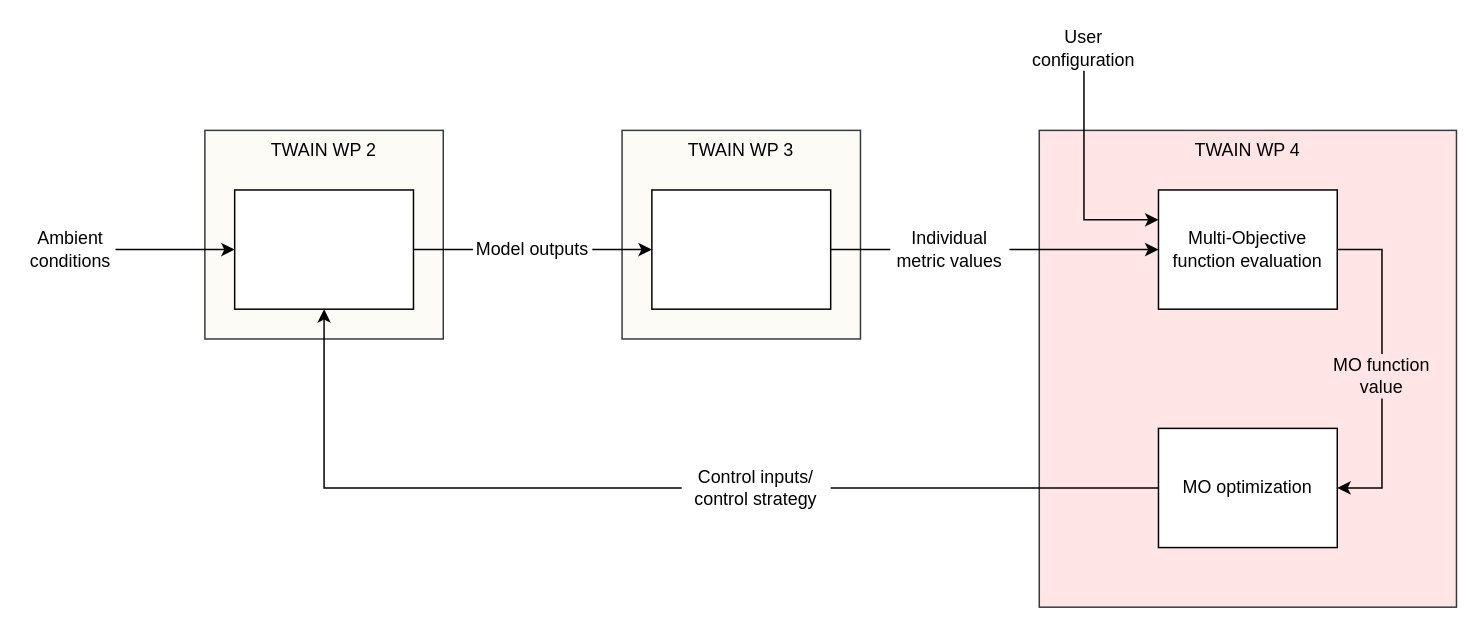
Image size: 1483x633. Some labels were removed from this diagram. Here are the shapes that lost their labels. From the top down, the box of each, then its label:
(233, 188, 413, 309): Wind farm surrogate models
(650, 188, 831, 309): Metrics evaluation
